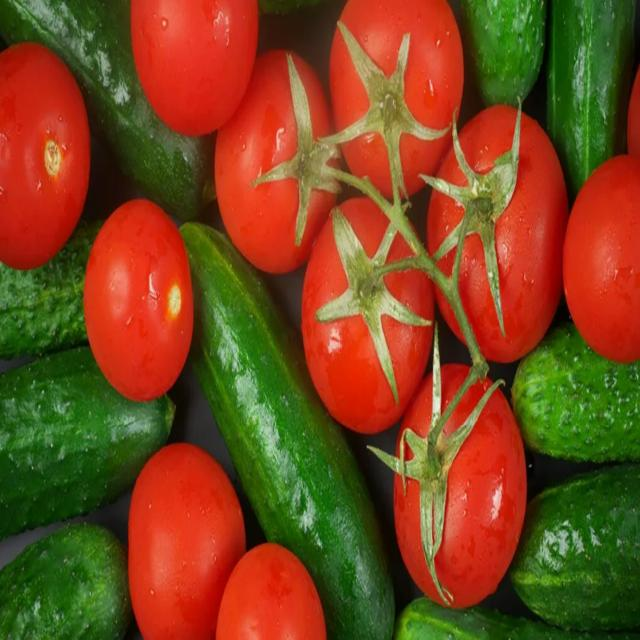tomato: (372, 349, 526, 609), (426, 105, 569, 363), (301, 198, 434, 434), (216, 51, 340, 274), (330, 0, 464, 198), (129, 445, 246, 640), (84, 200, 194, 403), (0, 42, 90, 269), (131, 0, 258, 136), (562, 156, 640, 363), (216, 543, 326, 640)
